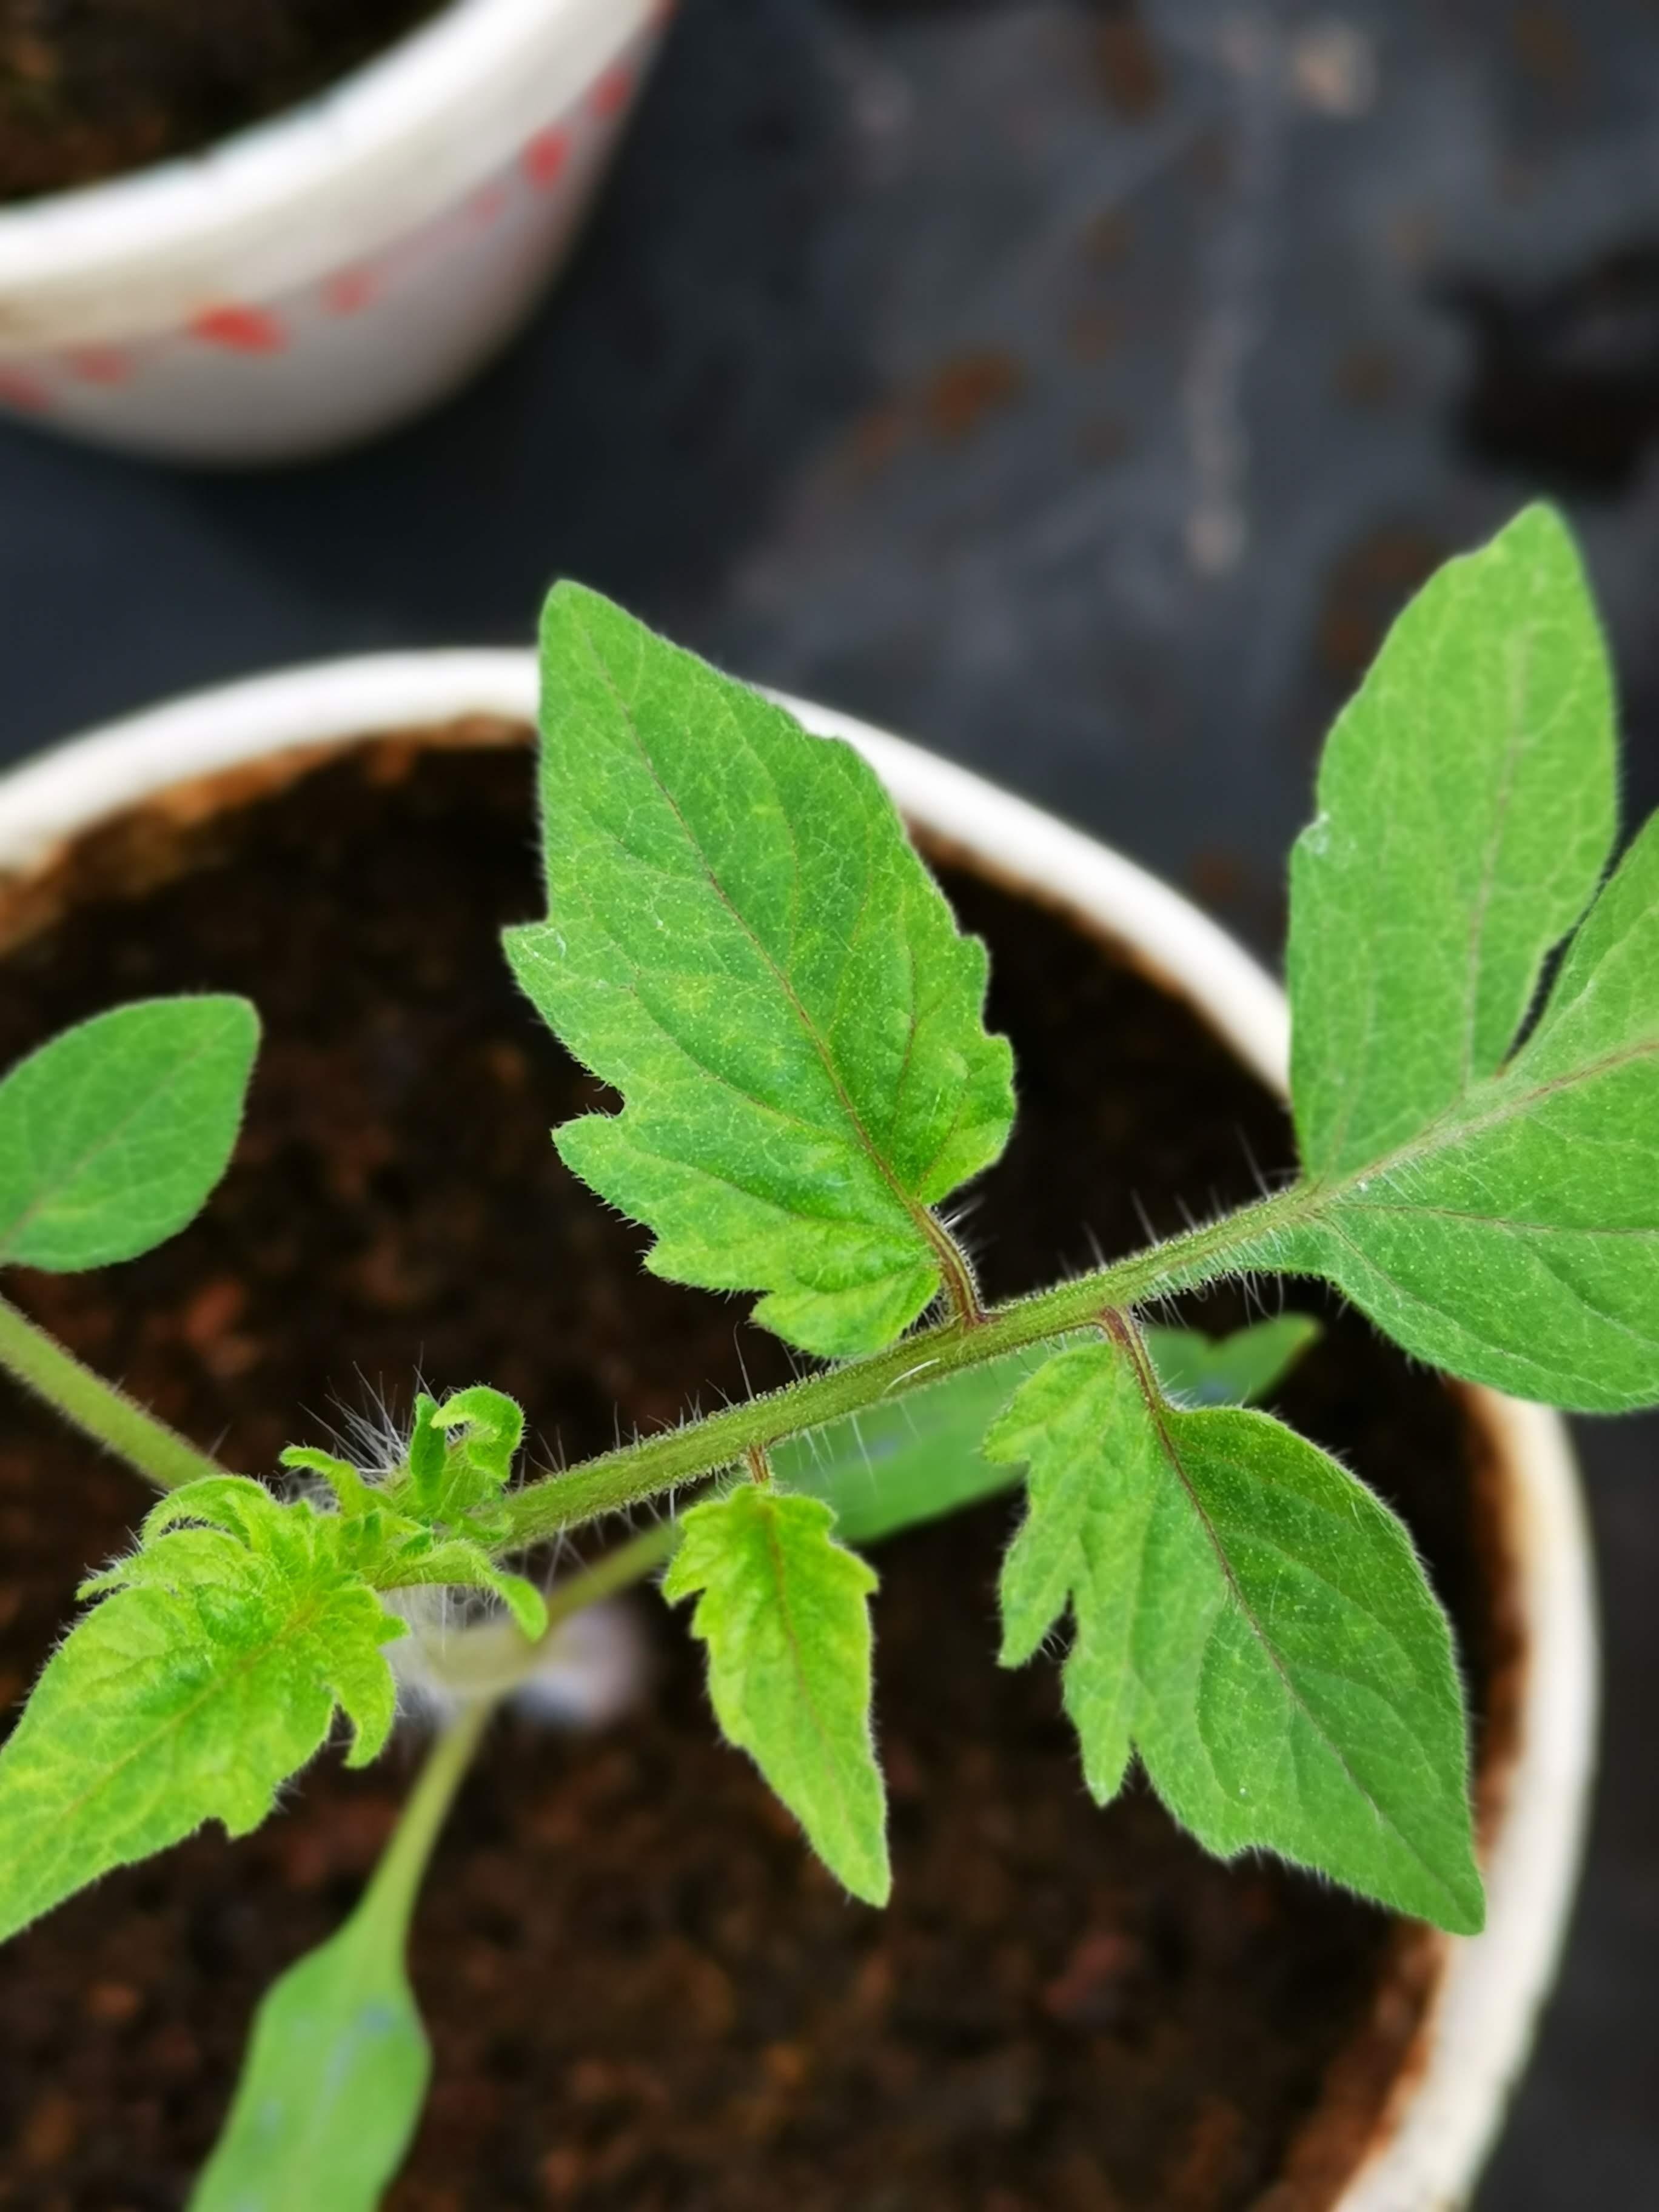Hoja: (1182, 503, 1659, 1413)
Hoja rugoso: (500, 575, 1016, 1362), (0, 1386, 554, 1942), (979, 1338, 1483, 1939), (662, 1479, 890, 1909)
Pedunculo rugoso: (505, 1193, 1307, 1550)
